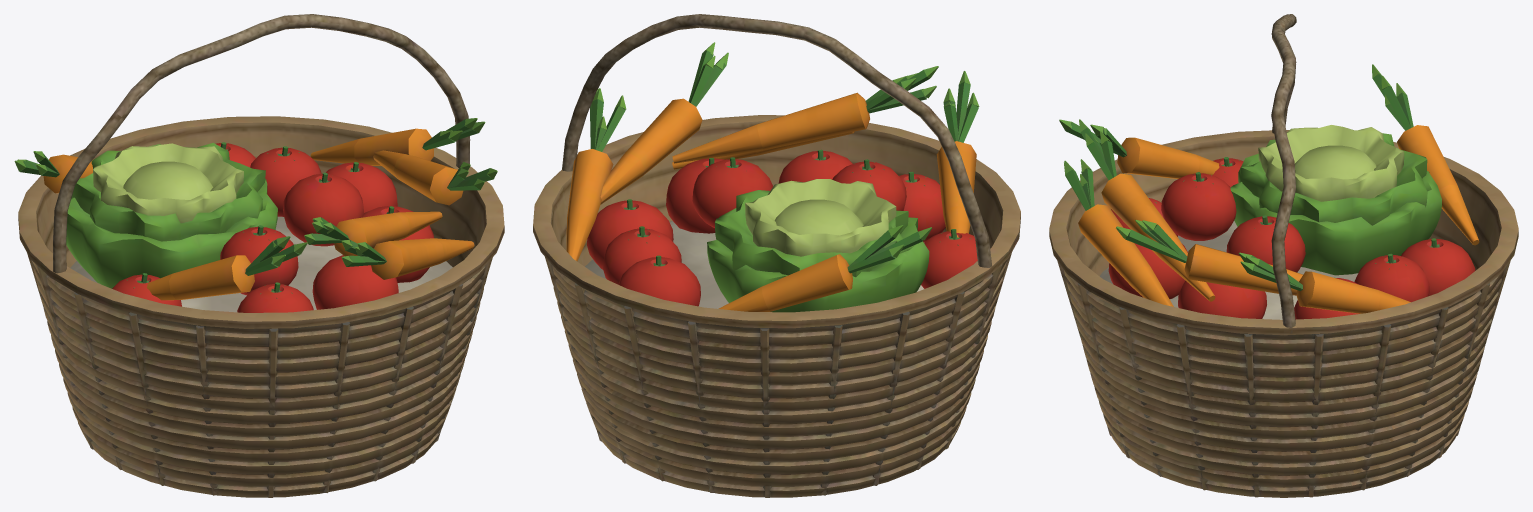
Rendered from cesto_legumes.glb.
3 views of the same model, side by side, from view 1: azimuth 30°, elevation 25°; view 2: azimuth 150°, elevation 25°; view 3: azimuth 270°, elevation 25° (orthographic). The views are drawn at different scales.
Visible parts, largest first — view 1: cesto, alface, cenouras, tomates, alca, forro; view 2: cesto, cenouras, tomates, alface, alca, forro; view 3: cesto, cenouras, alface, tomates, alca, forro.
Boxes of the visible parts, box(x1,y1,x2,y2) form: cesto: box(18, 116, 504, 497); alface: box(66, 142, 277, 288); cenouras: box(14, 118, 497, 300); tomates: box(112, 142, 434, 312); alca: box(53, 14, 470, 278); forro: box(70, 216, 452, 312); cesto: box(533, 115, 1020, 497); cenouras: box(566, 42, 979, 311); tomates: box(587, 149, 977, 306); alface: box(707, 179, 929, 312); alca: box(562, 14, 991, 267); forro: box(585, 221, 924, 308); cesto: box(1049, 130, 1518, 497); cenouras: box(1059, 64, 1479, 313); alface: box(1230, 125, 1441, 275); tomates: box(1108, 157, 1475, 319); alca: box(1271, 14, 1296, 333); forro: box(1099, 221, 1358, 319).
Size of the model in its own units: 0.3666 by 0.333 by 0.3666.
1 material, 1 textured.
